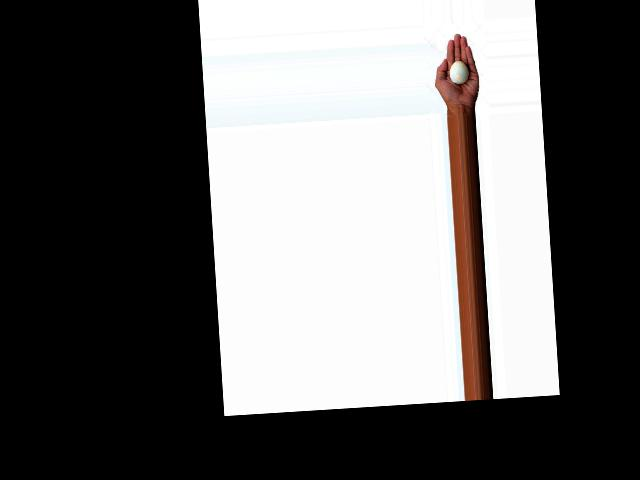egg: (449, 59, 469, 84)
